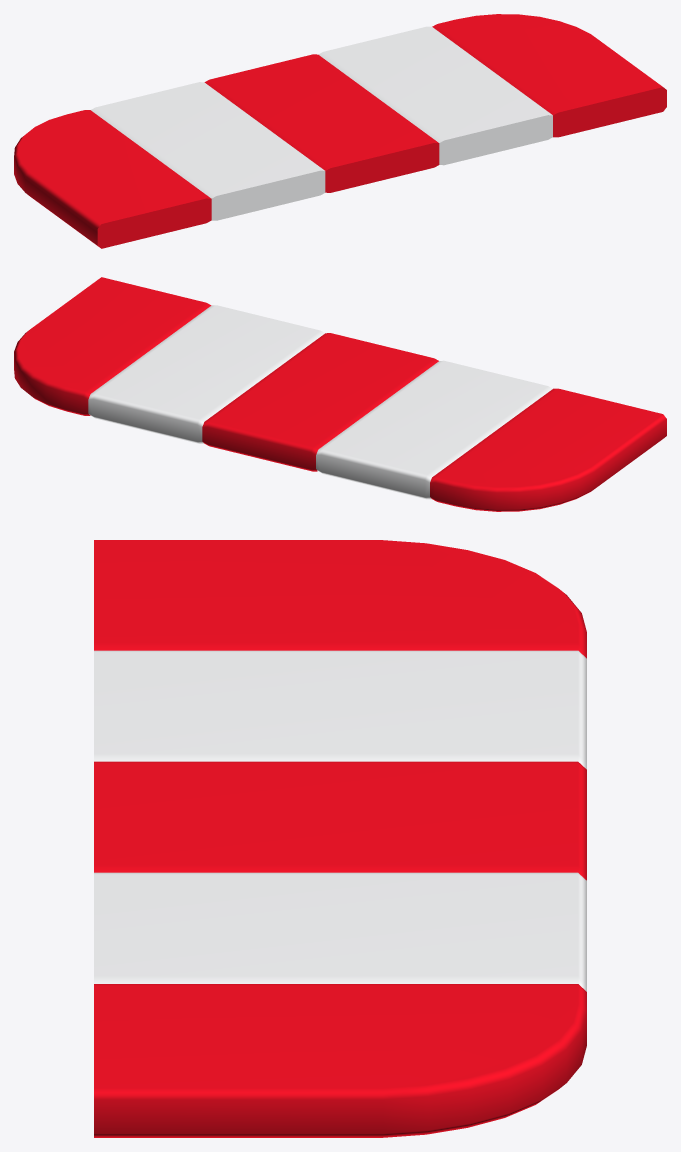
The model's file is platform_candy_001.glb.
3 renders of one model, top to bottom at view 1: azimuth 30°, elevation 25°; view 2: azimuth 150°, elevation 25°; view 3: azimuth 270°, elevation 25°, orthographic. The views are drawn at different scales.
Visible parts, largest first — view 1: platform_candy_001; view 2: platform_candy_001; view 3: platform_candy_001.
Part boxes in pixels (x1=…): platform_candy_001: x1=14, y1=14, x2=666, y2=248; platform_candy_001: x1=14, y1=277, x2=666, y2=511; platform_candy_001: x1=94, y1=540, x2=586, y2=1137.
Bounding box in the file's own units: 12 × 0.5 × 4.5.
1 material, 1 textured.
